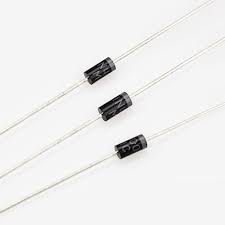diode: (98, 129, 167, 176), (60, 48, 129, 87), (82, 89, 142, 127)
